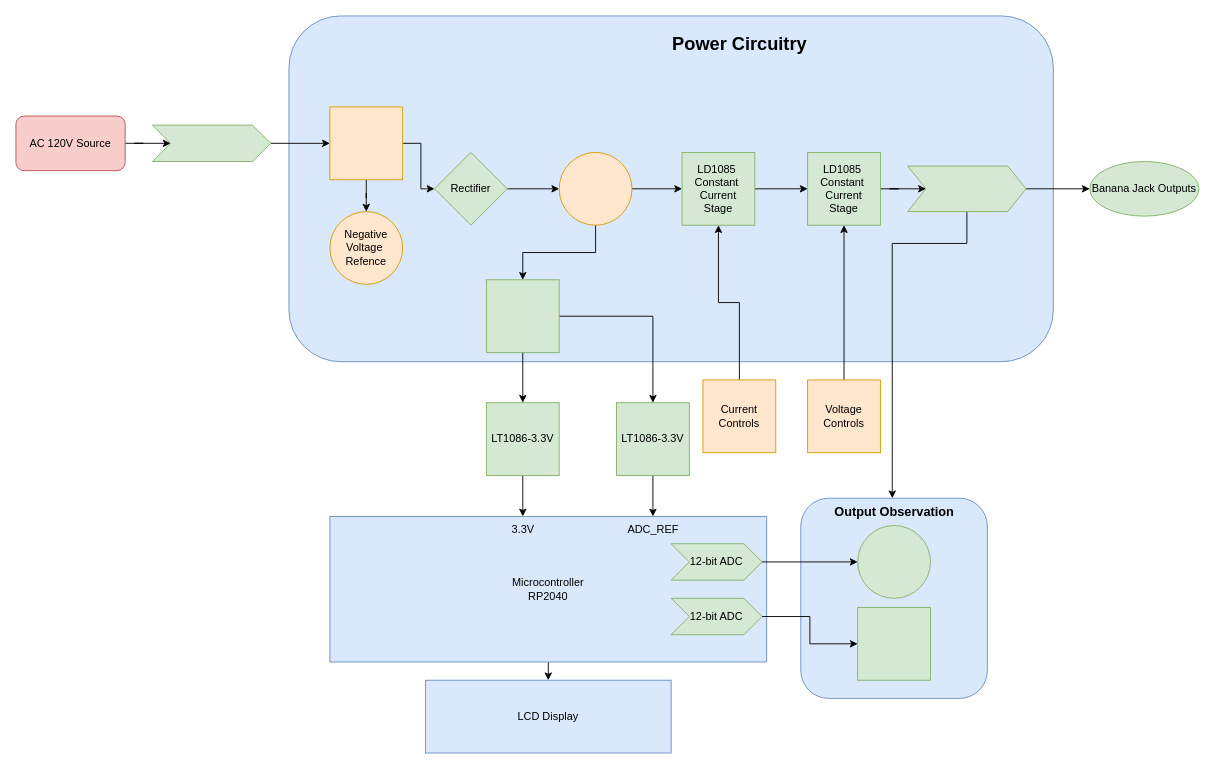
Some shapes in this 1215 by 769 pixel diagram are drawn without their labels. The shapes that lost their labels are listed below. From the top down, each one's centre as x and y in pixels, then its label:
At (x=211, y=143): "Switch and Fuse".
At (x=366, y=143): "Transformer".
At (x=595, y=188): "Filter Caps".
At (x=966, y=188): "Enable Switch".
At (x=522, y=316): "LM7805".
At (x=893, y=561): "Voltage Divider".
At (x=893, y=643): "INA128 Current Sense".
